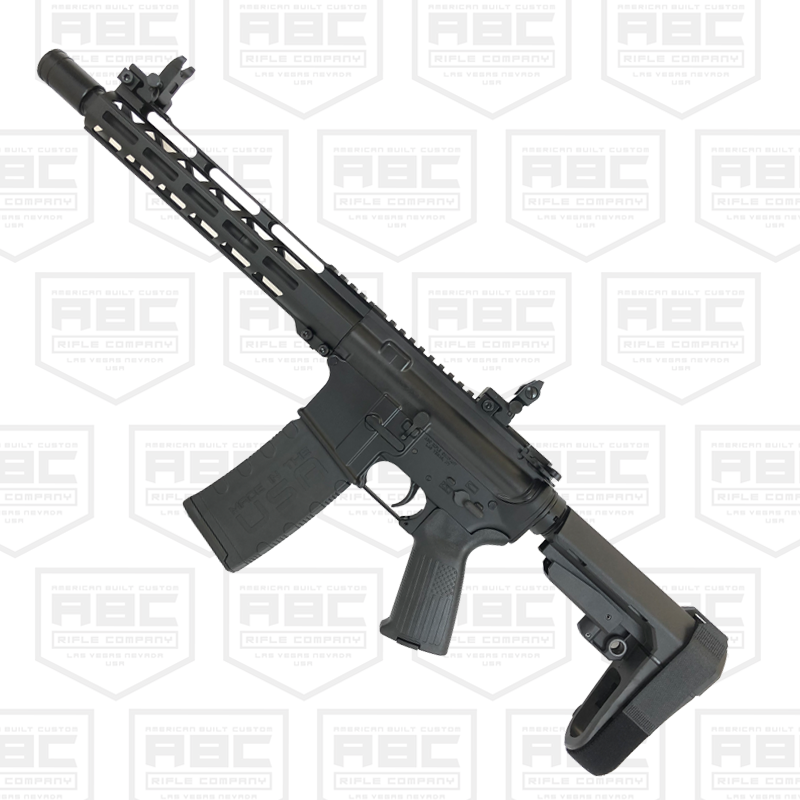Arma Real: (24, 47, 736, 779)
